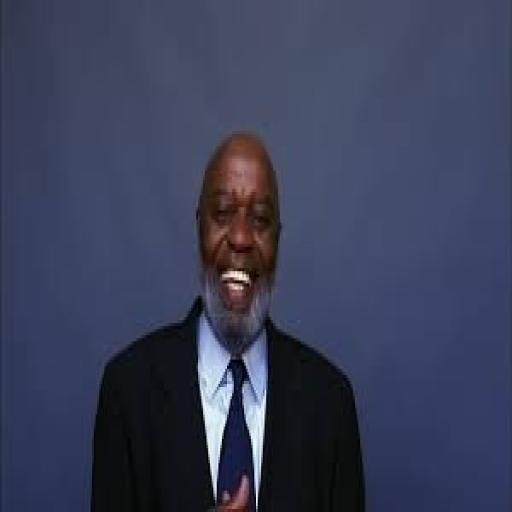laughing: (86, 113, 370, 506)
